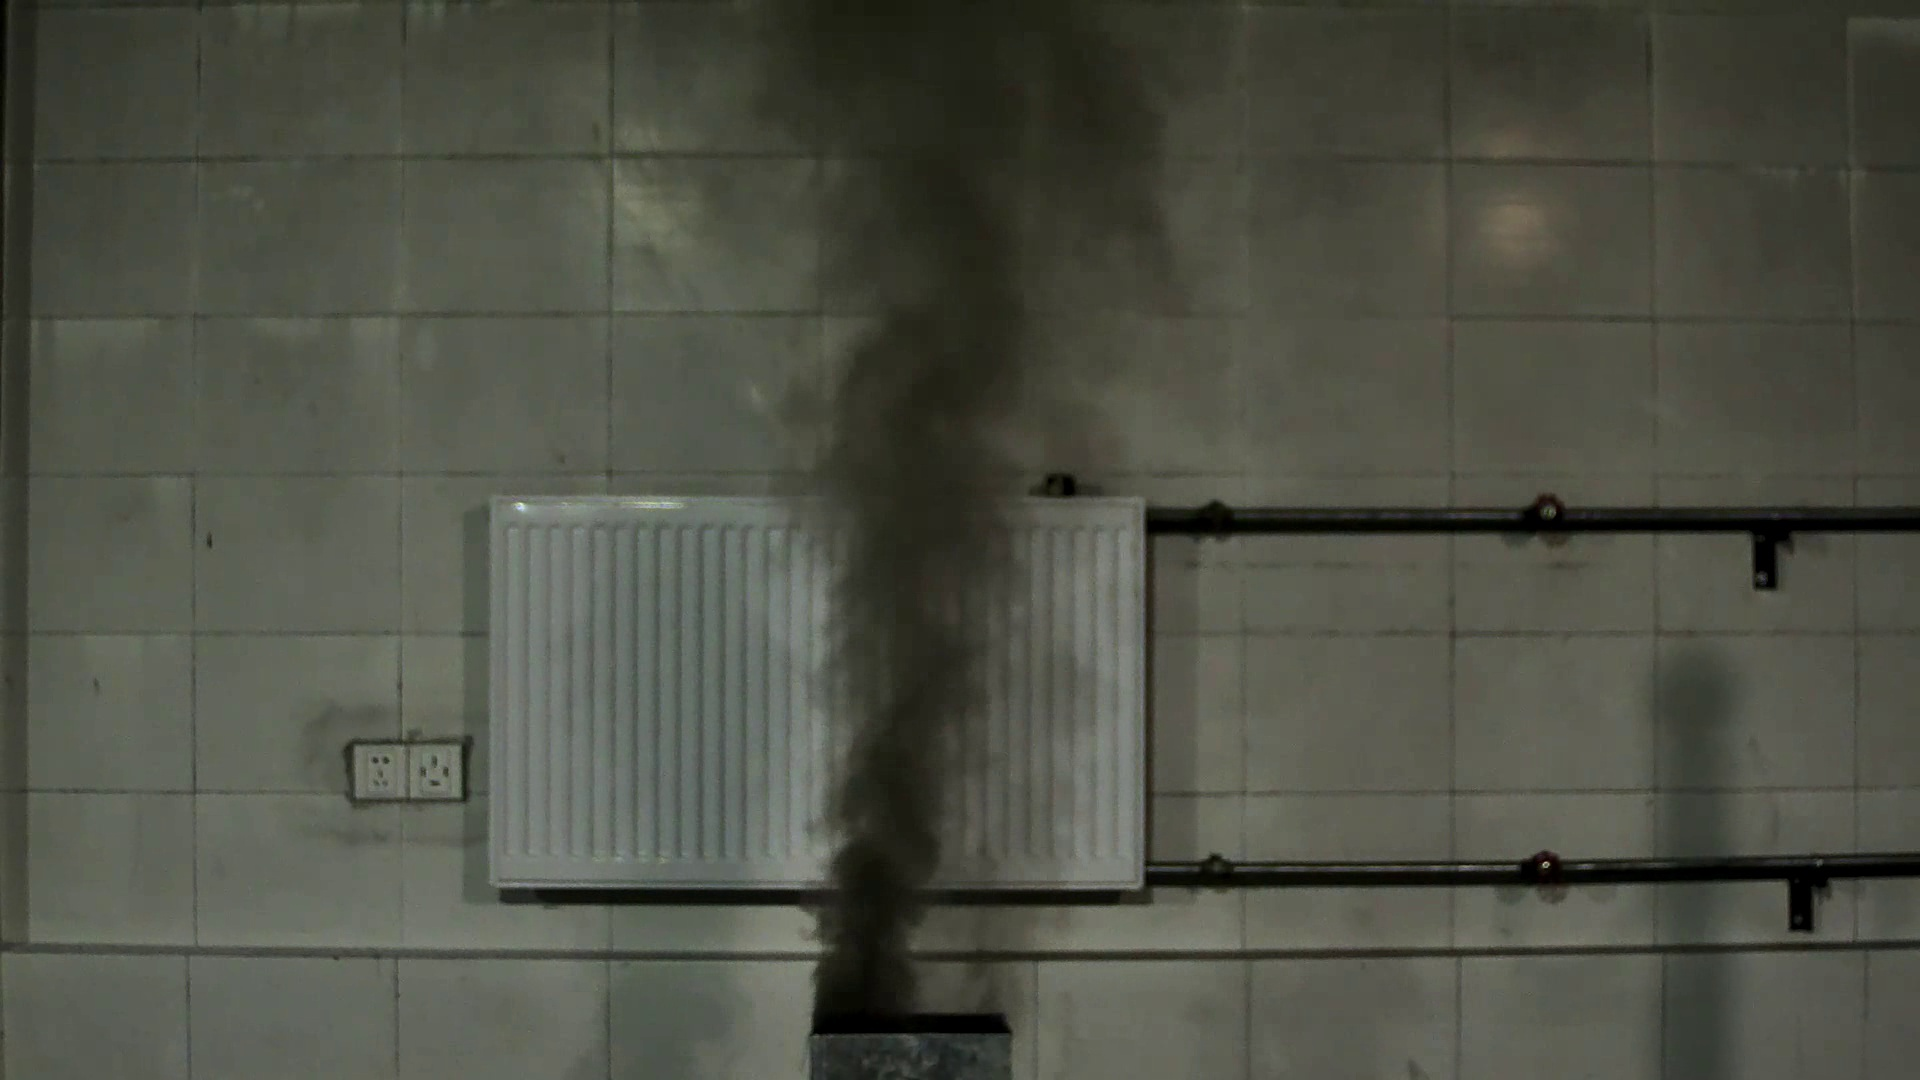smoke: (725, 30, 1145, 1004)
